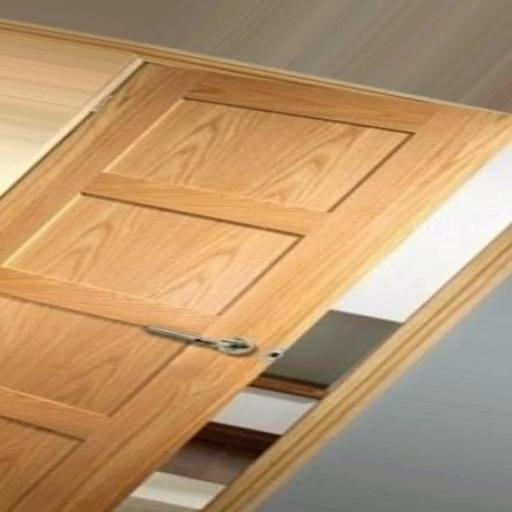door: (0, 50, 510, 511)
